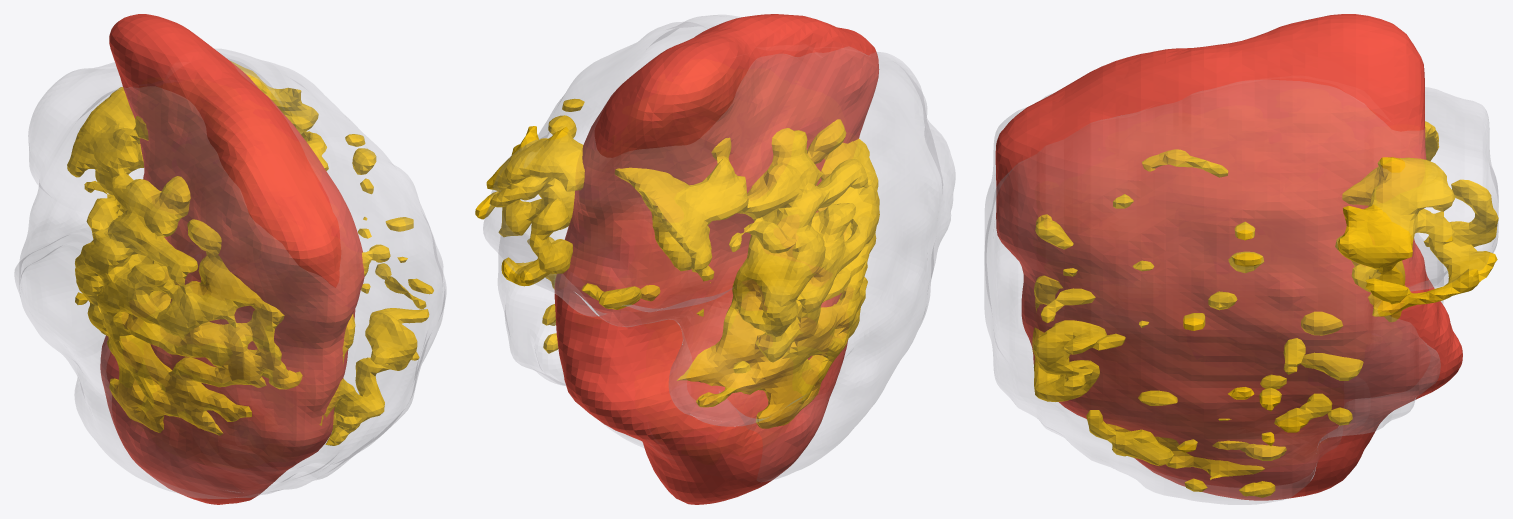
Rendered from case_1.gltf.
3 views of the same model, side by side, from view 1: azimuth 30°, elevation 25°; view 2: azimuth 150°, elevation 25°; view 3: azimuth 270°, elevation 25° (orthographic). The views are drawn at different scales.
Visible parts, largest first — view 1: brain, stroke, penumbra; view 2: brain, stroke, penumbra; view 3: brain, stroke, penumbra.
Part boxes in pixels (box(x1,y1,x2,y2)): brain: box(14, 49, 446, 498); stroke: box(100, 14, 364, 504); penumbra: box(67, 61, 433, 445); brain: box(483, 15, 955, 481); stroke: box(554, 14, 879, 504); penumbra: box(475, 98, 879, 428); brain: box(984, 80, 1498, 504); stroke: box(995, 14, 1462, 500); penumbra: box(1032, 121, 1498, 497).
Bounding box in the file's own units: 1.55 × 1.98 × 1.95.
